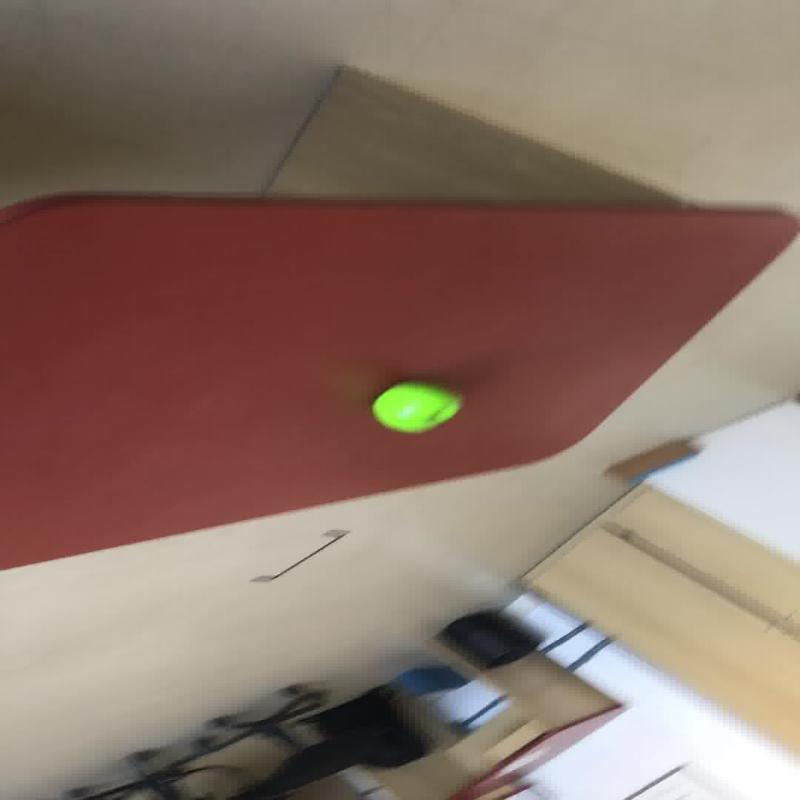apple: (369, 380, 462, 434)
